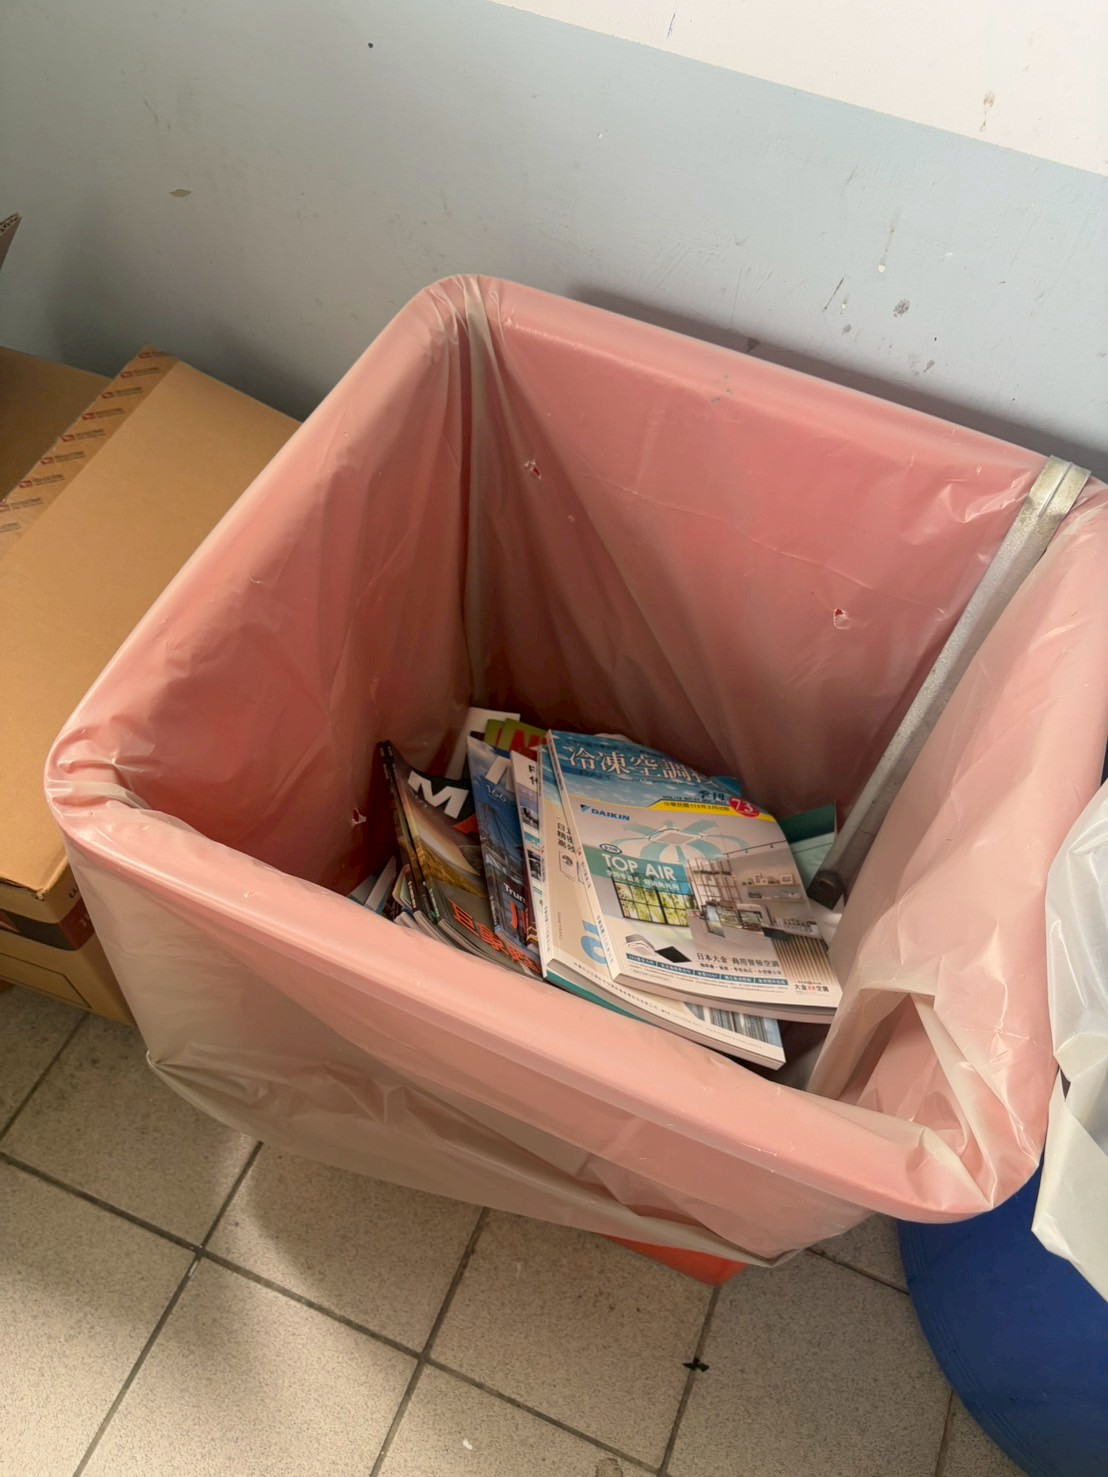normal_bin: (56, 213, 1075, 1279)
